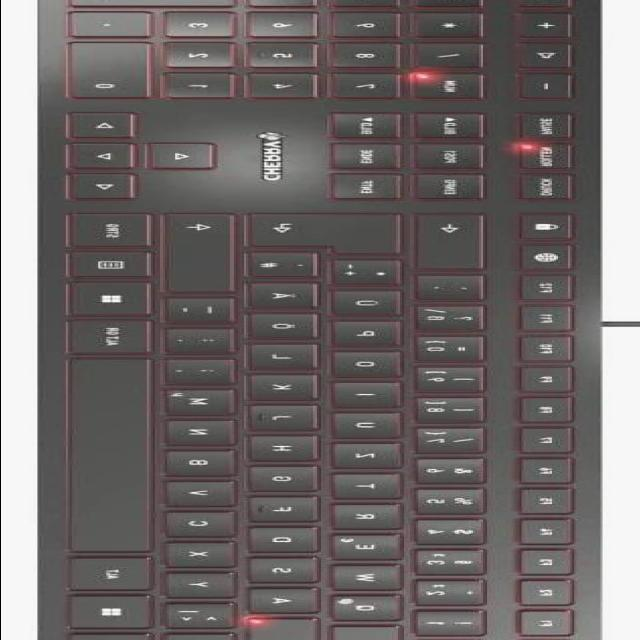0: (419, 337, 492, 363)
1: (419, 612, 494, 638)
2: (419, 581, 492, 607)
3: (419, 550, 494, 577)
4: (421, 521, 494, 546)
5: (419, 489, 494, 516)
6: (419, 459, 494, 485)
7: (419, 429, 494, 455)
8: (419, 399, 492, 425)
9: (419, 368, 492, 394)
a: (253, 590, 328, 615)
accent: (419, 276, 492, 302)
ae: (253, 284, 328, 310)
alt-left: (65, 556, 154, 591)
altgr-right: (65, 320, 154, 356)
b: (172, 451, 247, 479)
c: (170, 512, 245, 539)
caret: (421, 630, 492, 640)
comma: (170, 360, 245, 385)
d: (253, 529, 328, 554)
del: (419, 215, 490, 271)
e: (336, 536, 413, 562)
enter: (251, 215, 413, 258)
f: (253, 499, 328, 524)
g: (253, 468, 328, 494)
h: (253, 437, 328, 463)
hash: (253, 254, 326, 280)
i: (338, 383, 413, 409)
j: (253, 406, 330, 432)
k: (253, 375, 328, 403)
keyboard: (41, 0, 606, 640)
l: (255, 345, 328, 371)
less: (172, 605, 245, 631)
m: (170, 391, 245, 417)
minus: (170, 299, 243, 325)
n: (170, 420, 245, 448)
o: (336, 353, 411, 379)
oe: (253, 314, 326, 340)
p: (338, 322, 411, 348)
plus: (336, 263, 411, 287)
point: (170, 329, 245, 355)
q: (336, 597, 411, 624)
r: (338, 505, 411, 531)
s: (253, 559, 328, 585)
shift-left: (168, 627, 243, 640)
shift-lock: (251, 618, 328, 640)
shift-right: (172, 216, 243, 294)
space: (65, 360, 156, 554)
ss: (419, 307, 492, 333)
strg-left: (71, 625, 160, 640)
strg-right: (67, 213, 150, 249)
t: (338, 475, 413, 501)
tab: (336, 622, 411, 640)
u: (336, 414, 411, 440)
ue: (336, 292, 411, 318)
v: (172, 482, 247, 508)
w: (336, 567, 413, 593)
x: (170, 543, 245, 570)
y: (170, 574, 245, 600)
z: (338, 444, 411, 470)
